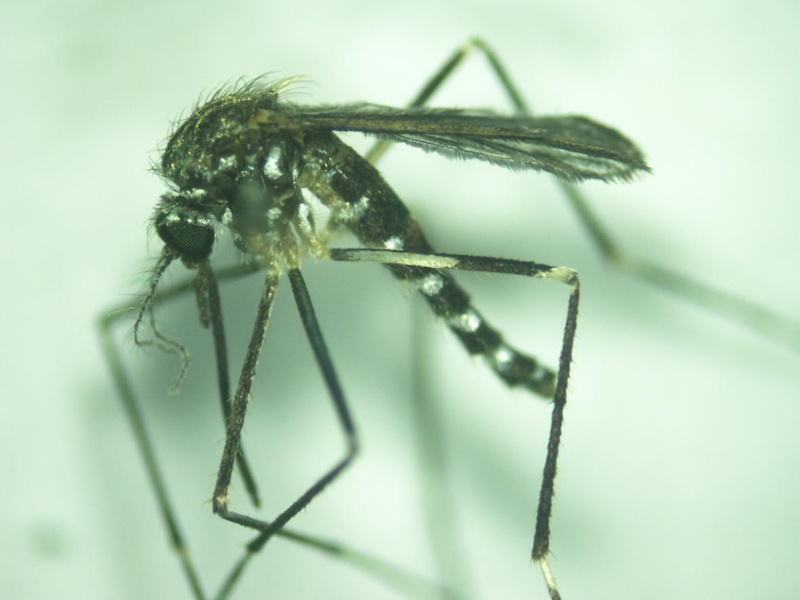dengue_mosquito: (130, 75, 569, 407)
